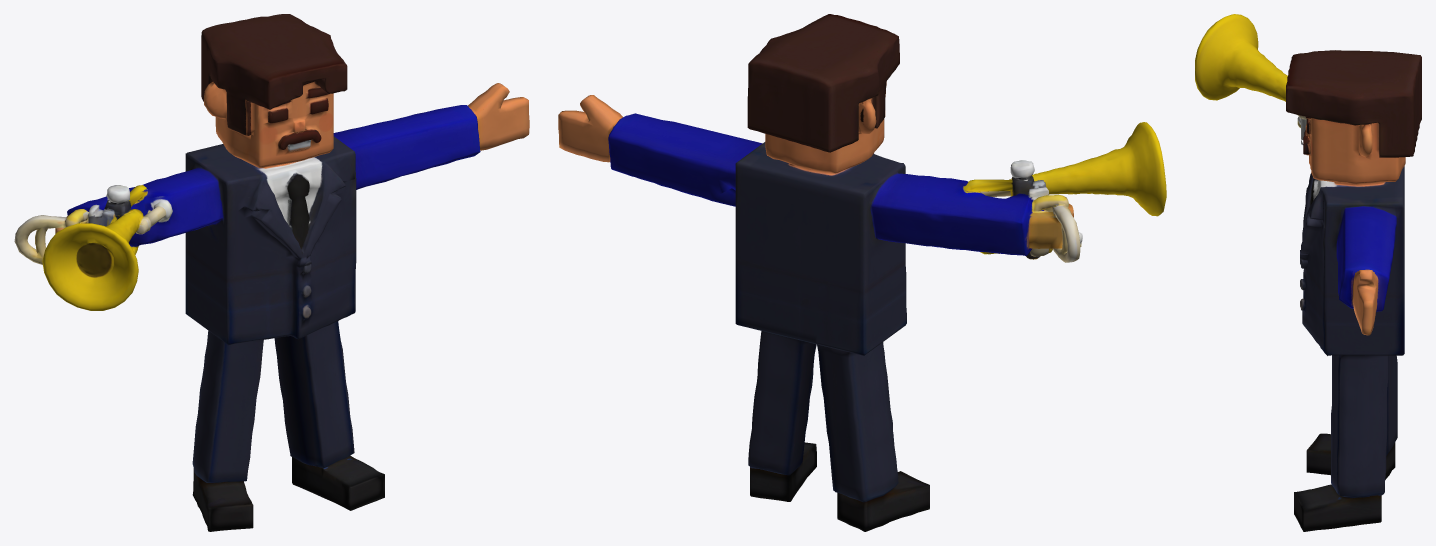
File: hornplayer.glb
3 views of the same model, side by side, from view 1: azimuth 30°, elevation 25°; view 2: azimuth 150°, elevation 25°; view 3: azimuth 270°, elevation 25° (orthographic). The views are drawn at different scales.
Parts seen in each view (by area): view 1: tripo_node_88b9c4c4-488d-4a96-81a3-5a80f7ada0c7; view 2: tripo_node_88b9c4c4-488d-4a96-81a3-5a80f7ada0c7; view 3: tripo_node_88b9c4c4-488d-4a96-81a3-5a80f7ada0c7.
Part boxes in pixels (x1=…): tripo_node_88b9c4c4-488d-4a96-81a3-5a80f7ada0c7: x1=14, y1=14, x2=529, y2=531; tripo_node_88b9c4c4-488d-4a96-81a3-5a80f7ada0c7: x1=558, y1=14, x2=1166, y2=531; tripo_node_88b9c4c4-488d-4a96-81a3-5a80f7ada0c7: x1=1195, y1=14, x2=1421, y2=531.
Bounding box in the file's own units: 0.9782 × 0.7829 × 0.3771.
Materials: 1 (1 with a texture image).
